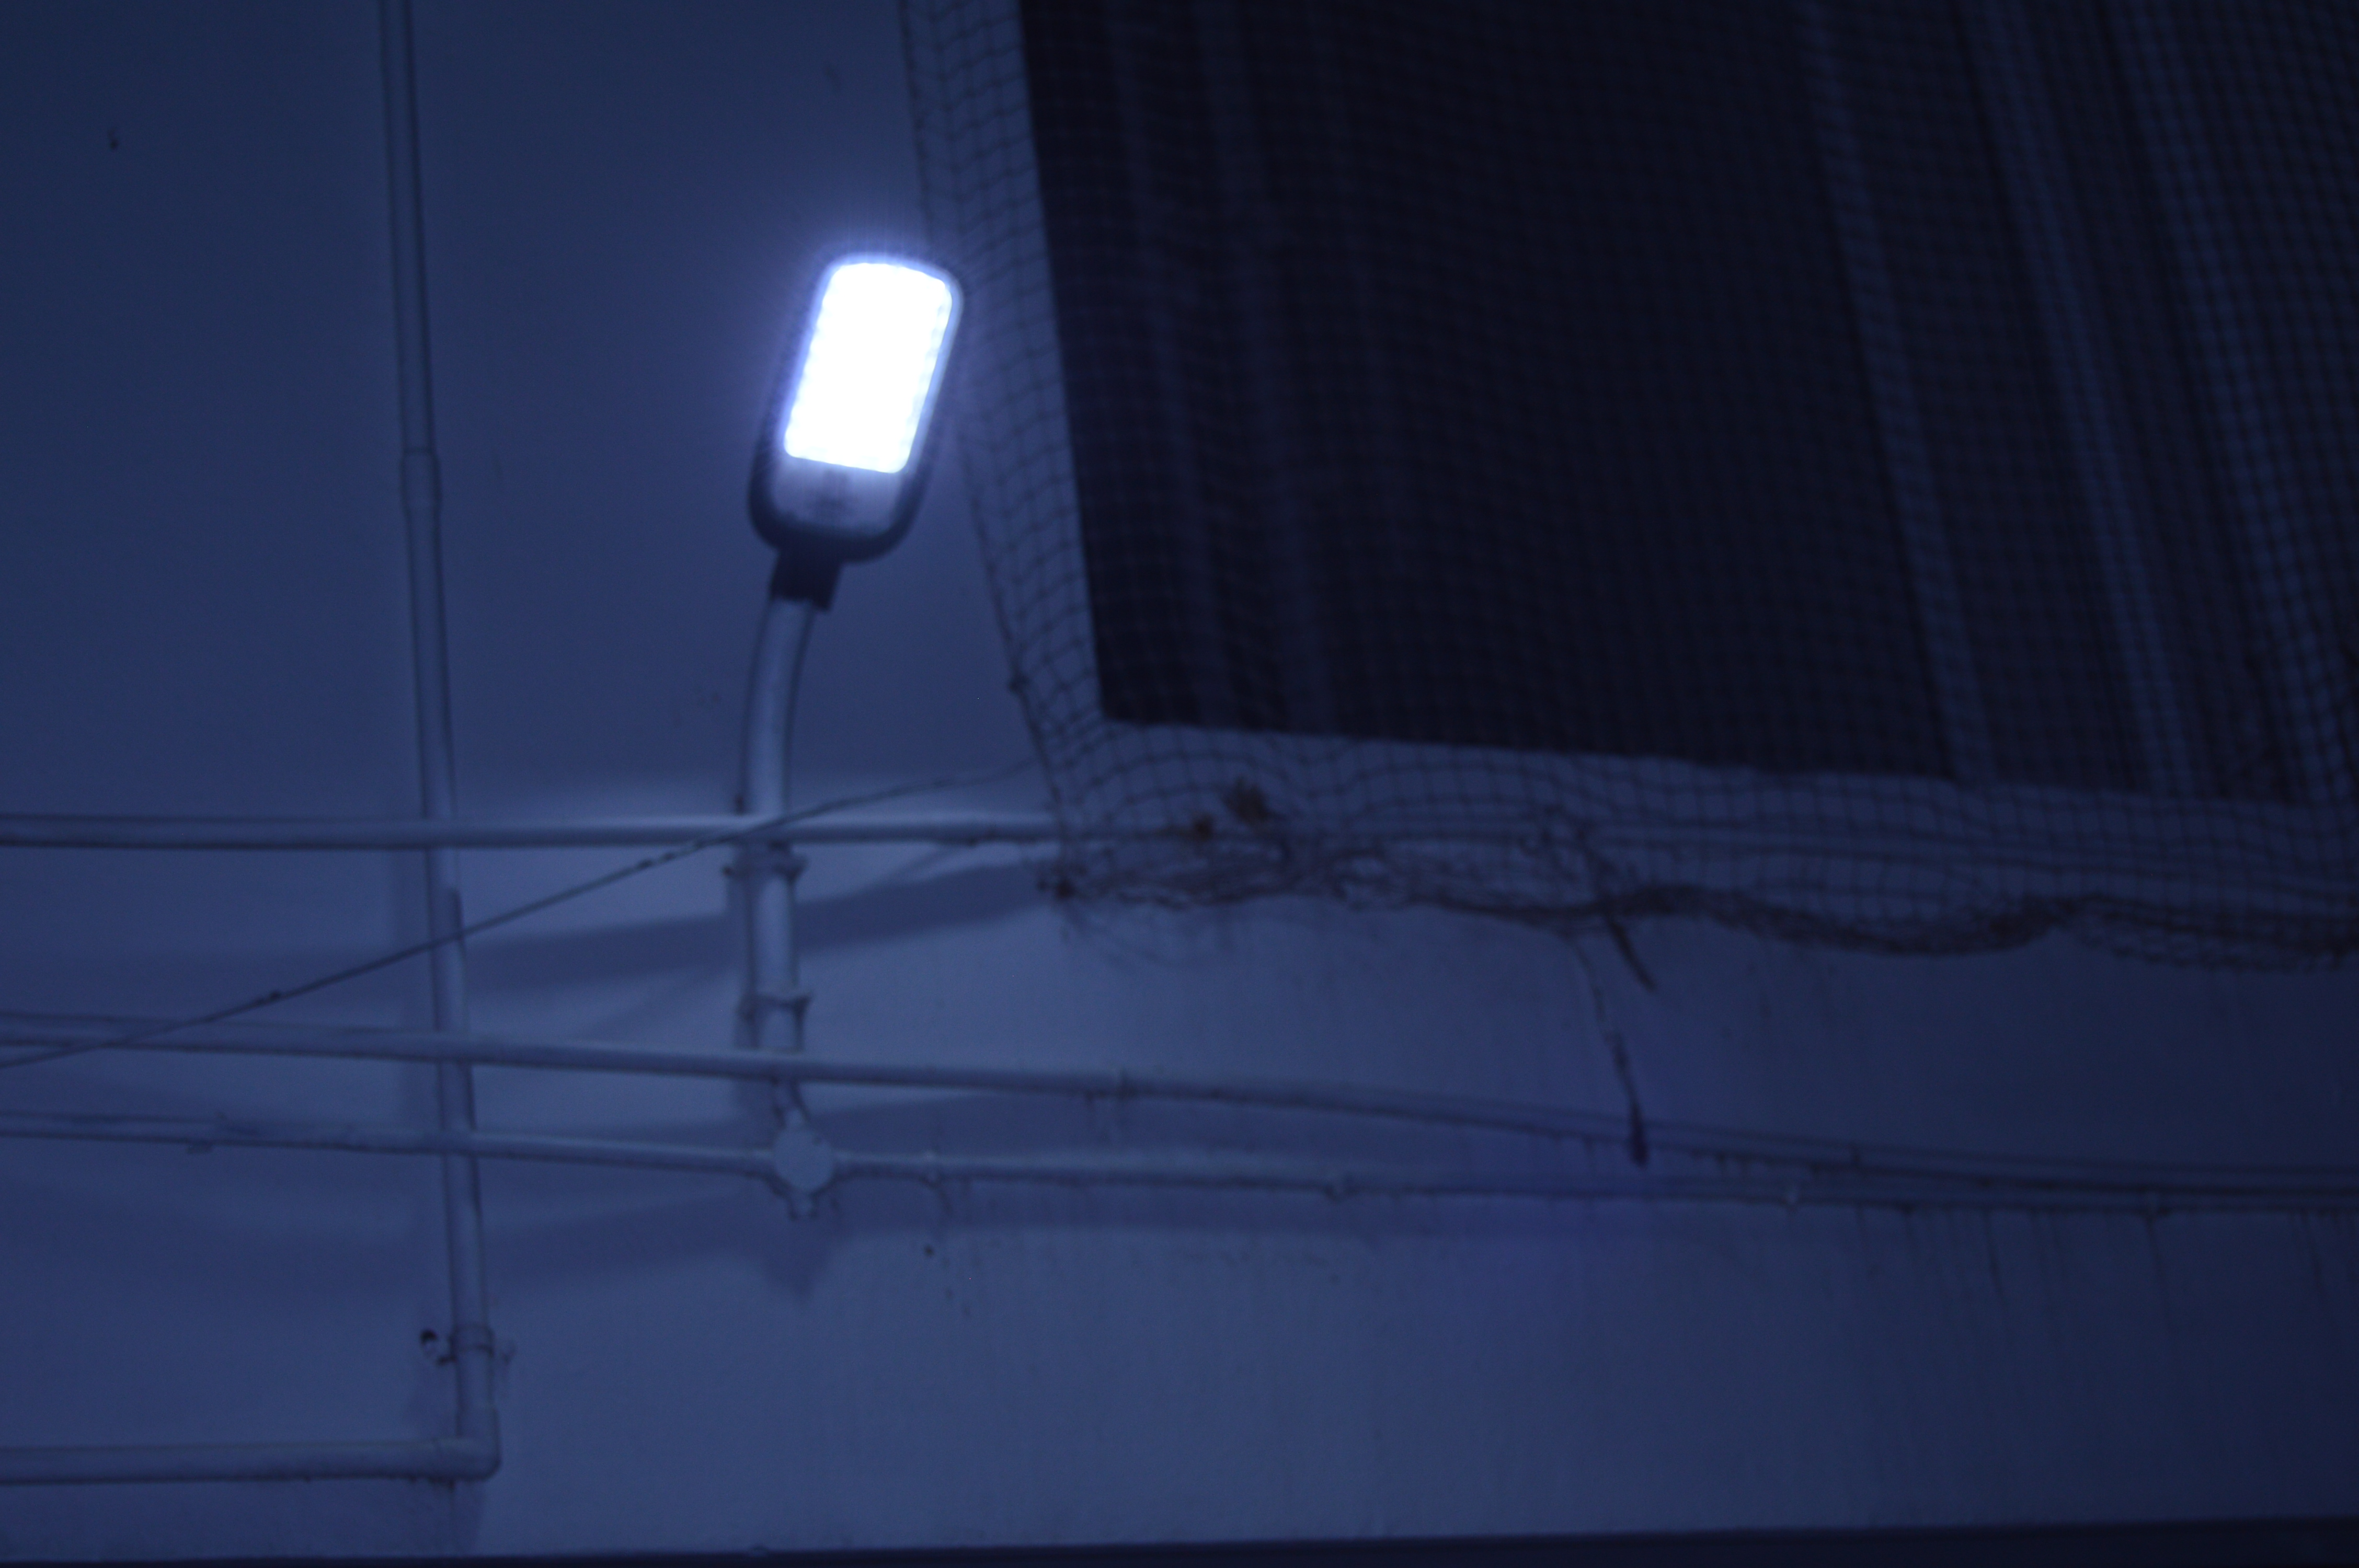Glare: (779, 255, 954, 476)
